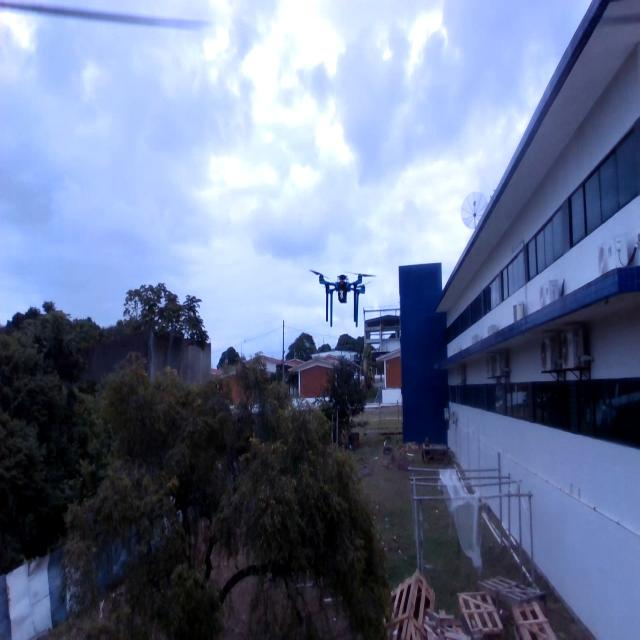-uav-: (306, 252, 376, 333)
